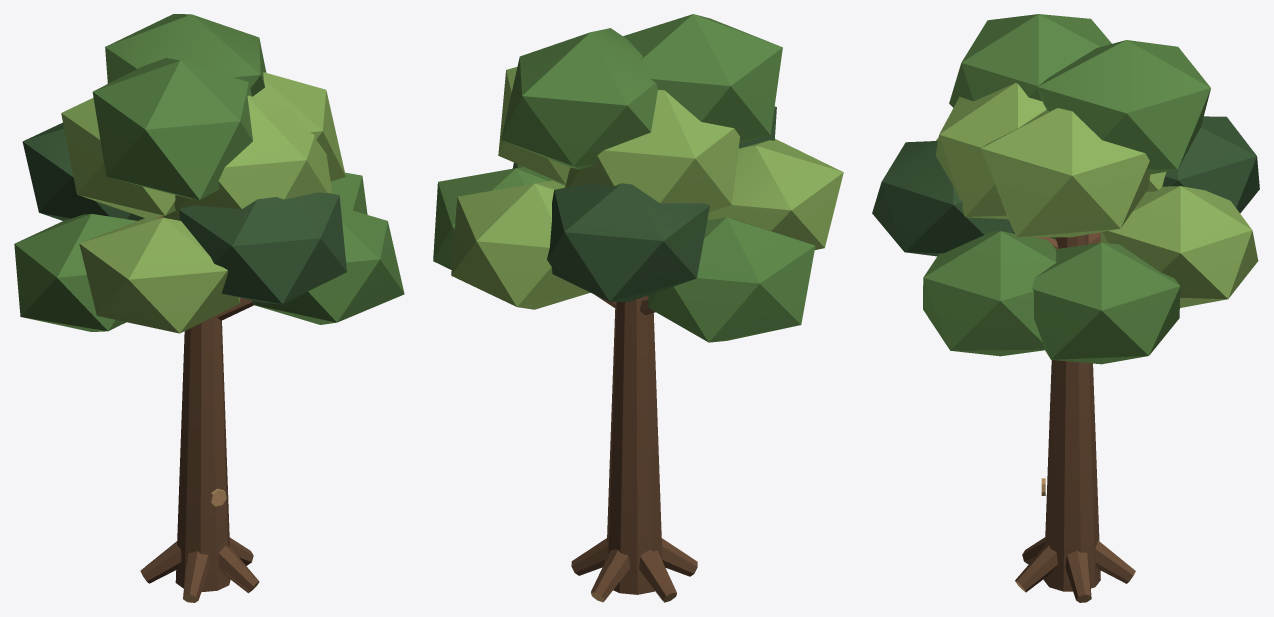
Rendered from tree_b.glb.
3 renders of one model, left to right at view 1: azimuth 30°, elevation 25°; view 2: azimuth 150°, elevation 25°; view 3: azimuth 270°, elevation 25°, orthographic. The views are drawn at different scales.
Visible parts, largest first — view 1: tree_b; view 2: tree_b; view 3: tree_b.
Boxes of the visible parts, <box> form: tree_b: <box>14,14,404,602</box>; tree_b: <box>433,14,843,602</box>; tree_b: <box>872,14,1259,602</box>.
Size of the model in its own units: 5.63 by 8.46 by 5.43.
